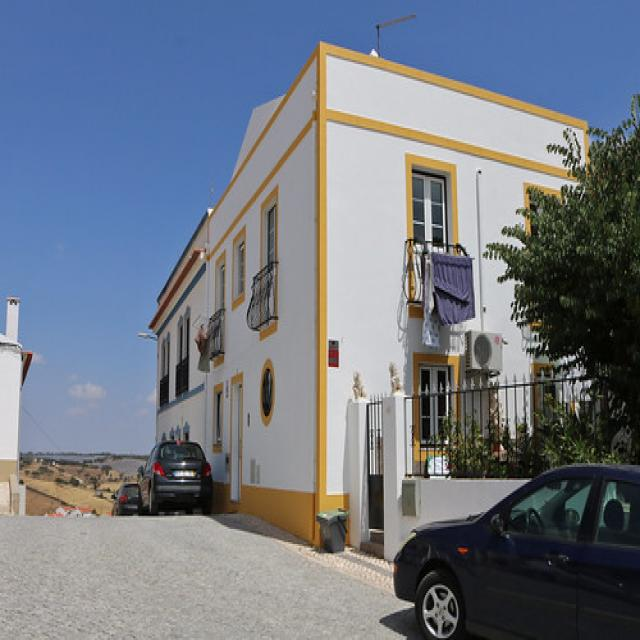Normal_building: (149, 33, 595, 552)
